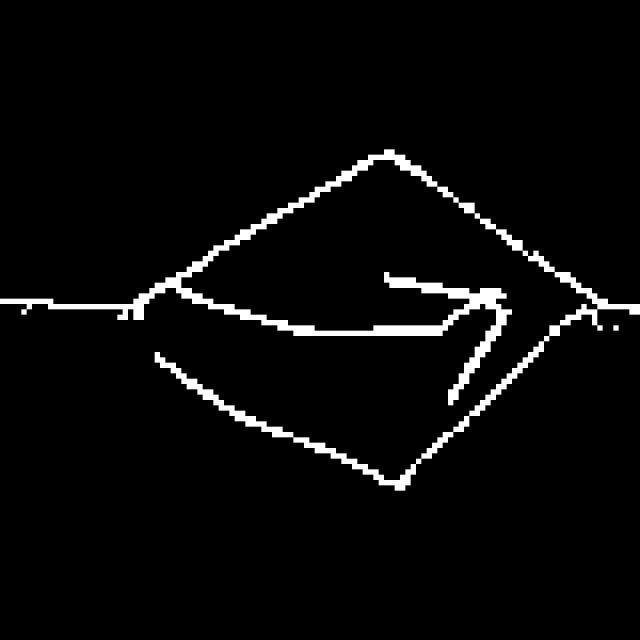dependant_current: (116, 152, 602, 513)
